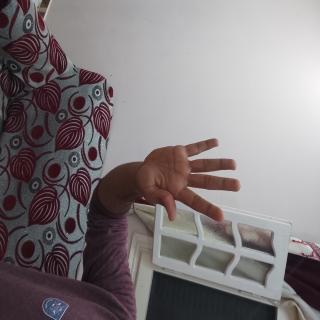SHEEN: (98, 105, 175, 255)
